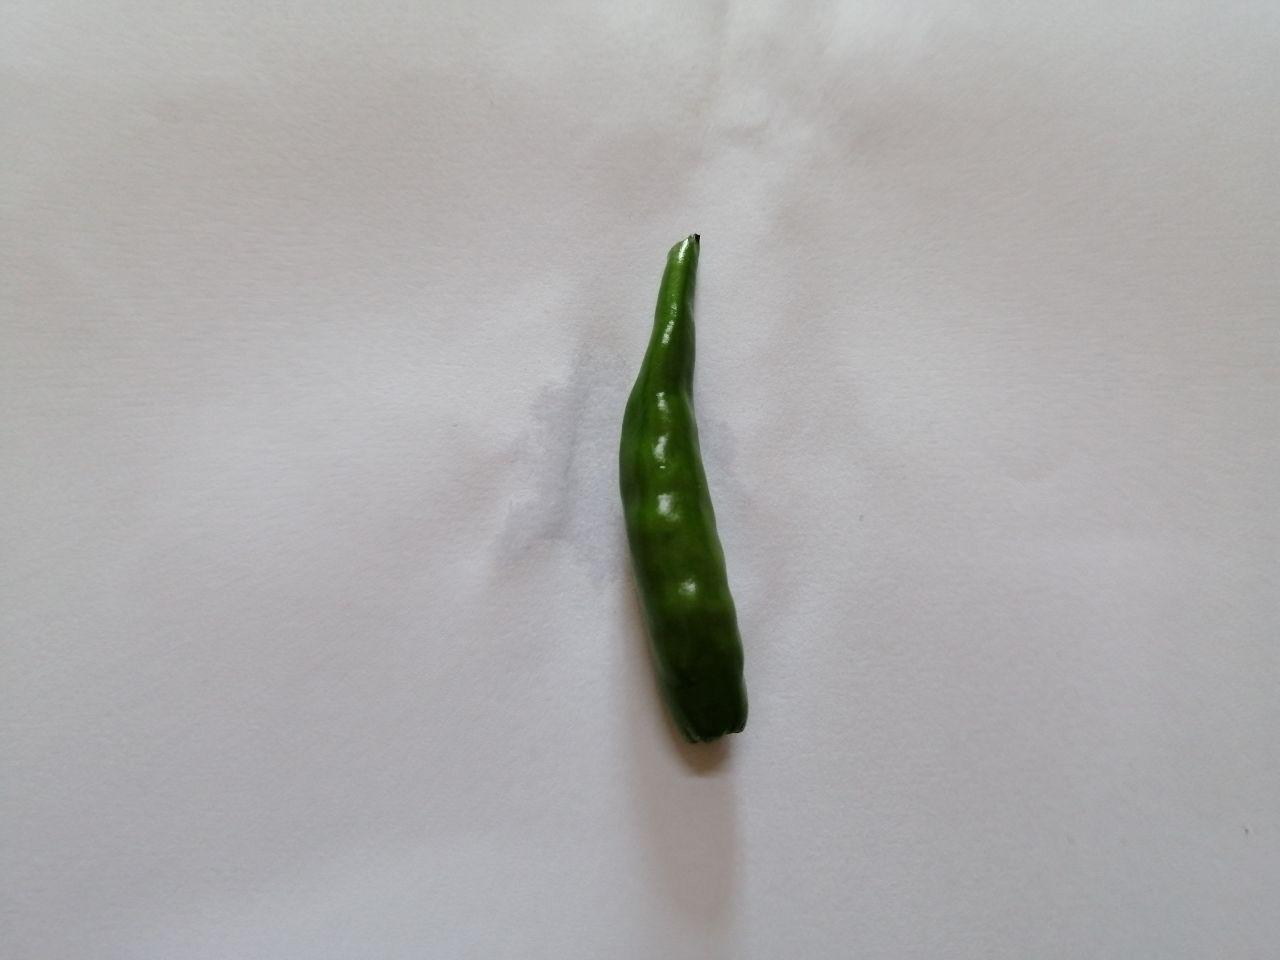lada hijau: (602, 209, 796, 772)
